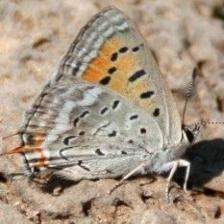butterfly: (8, 5, 194, 196)
